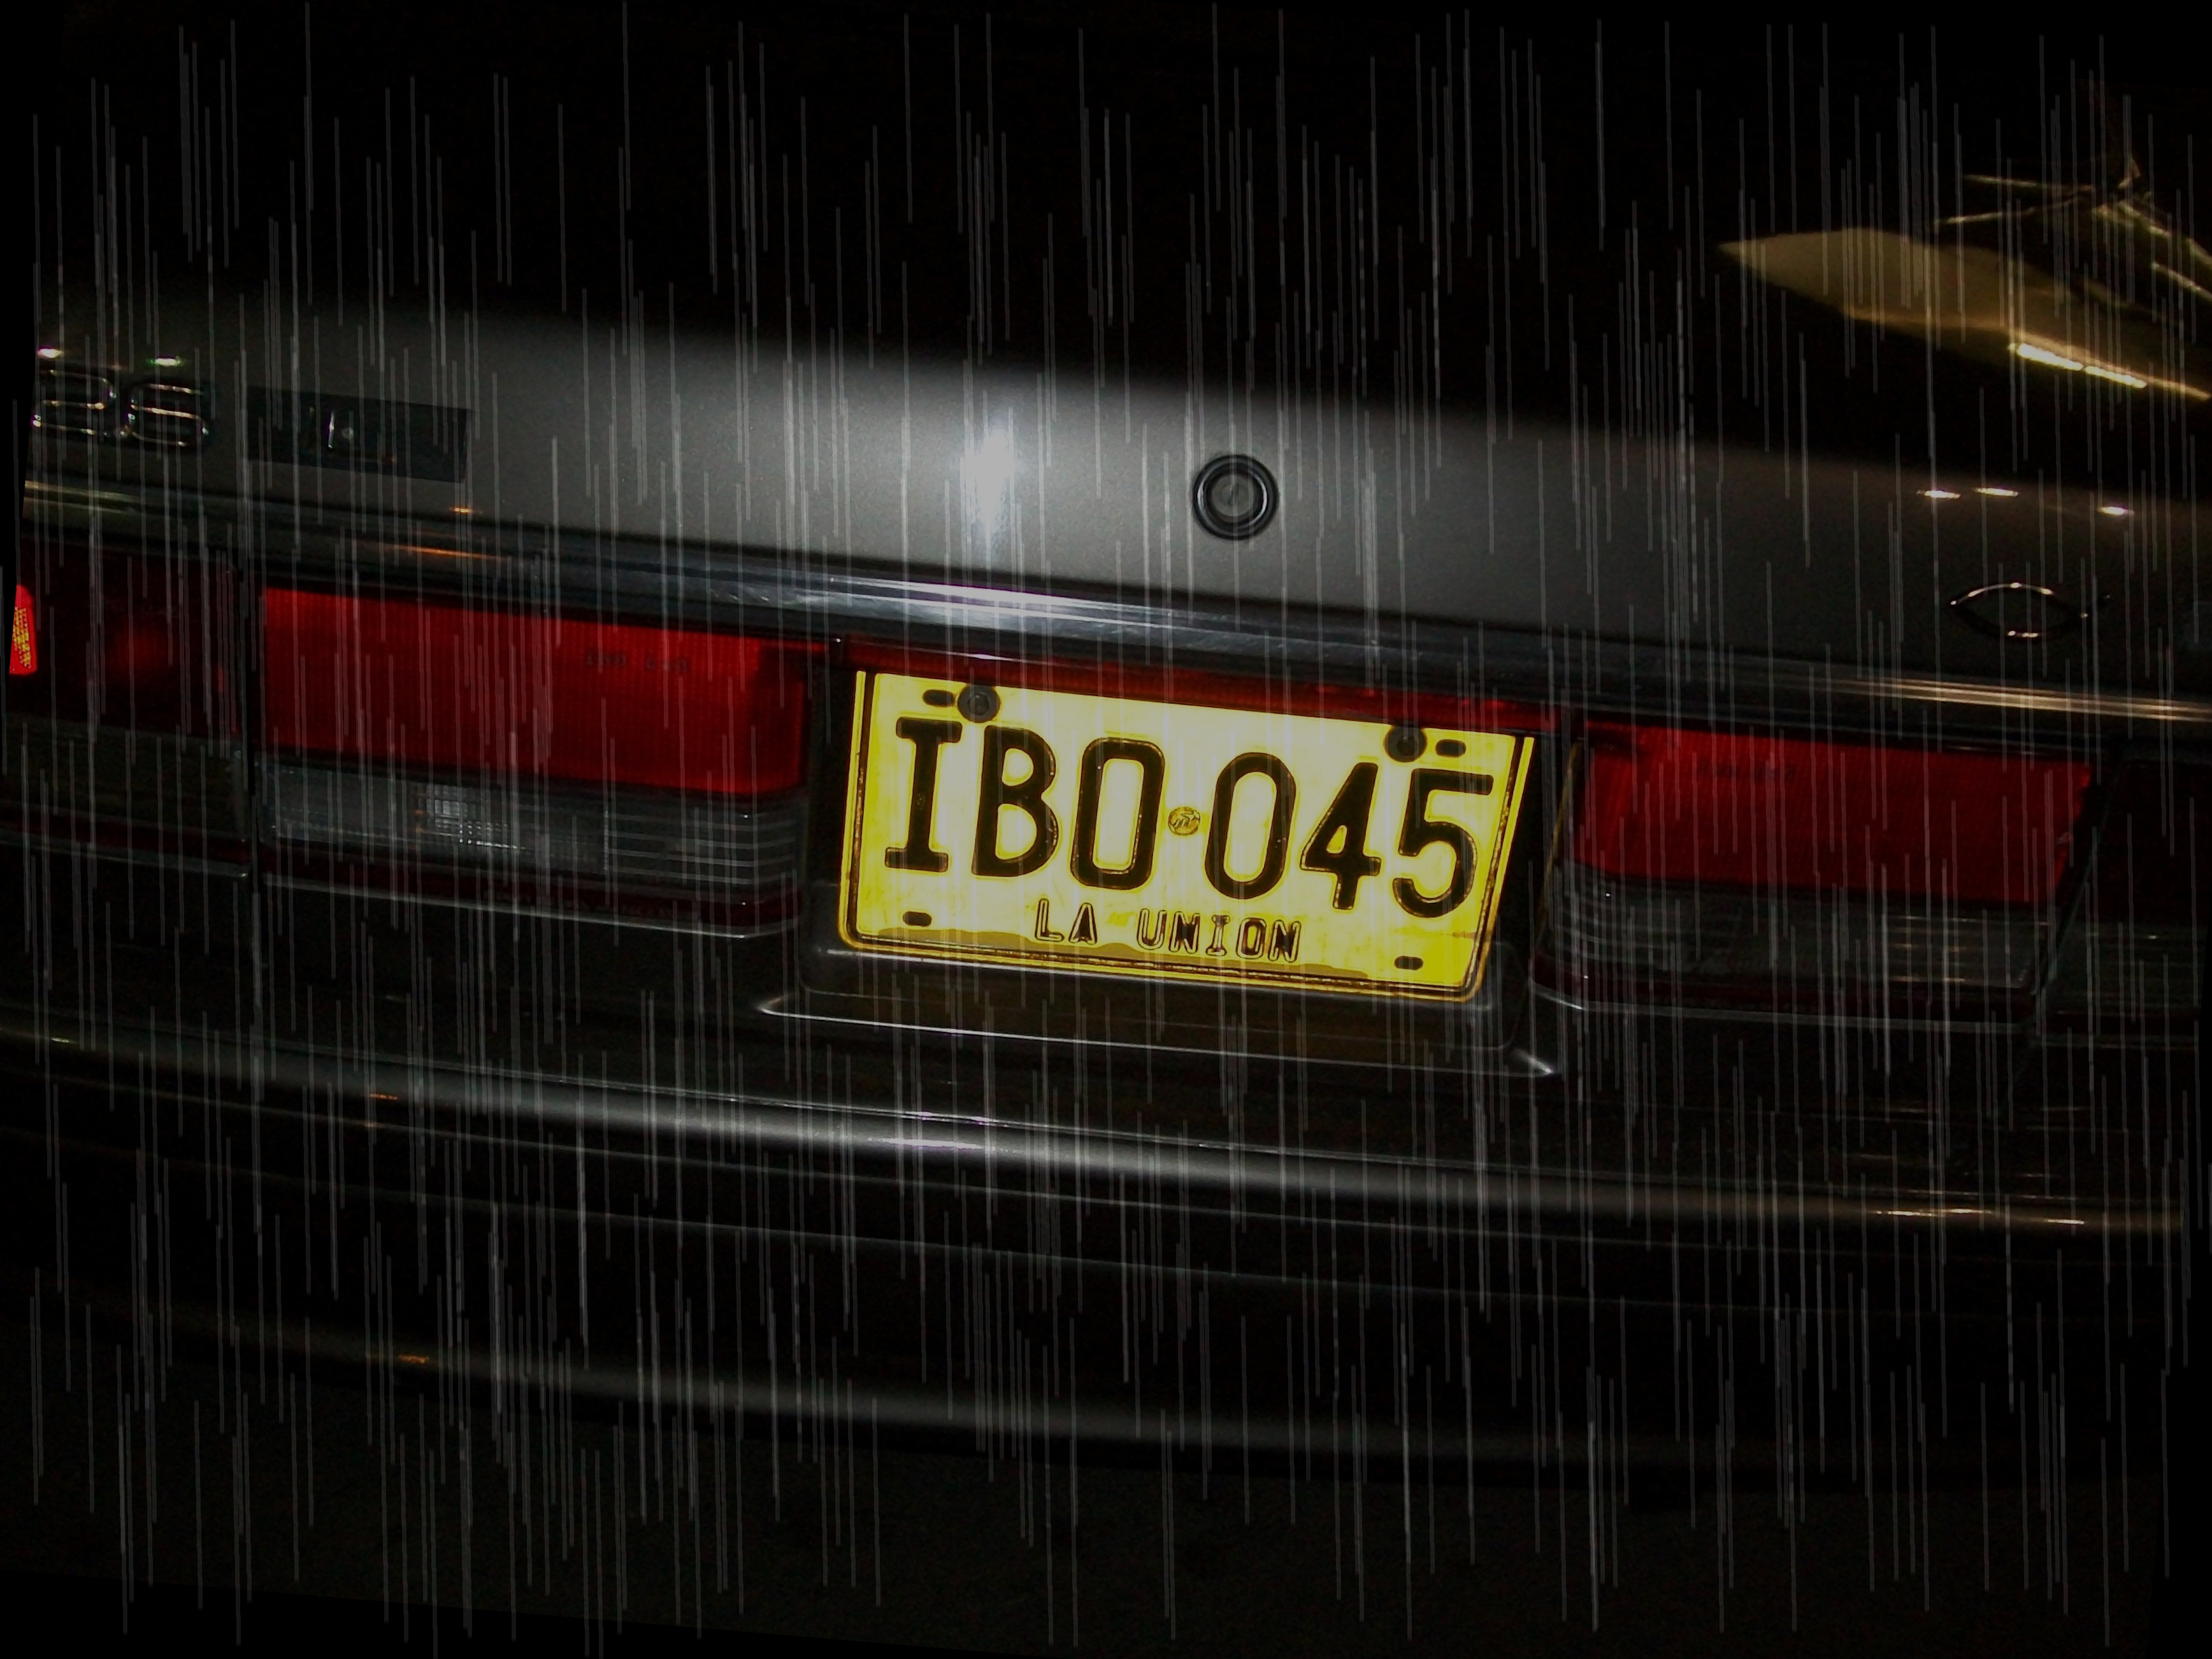placas: (810, 654, 1536, 1028)
